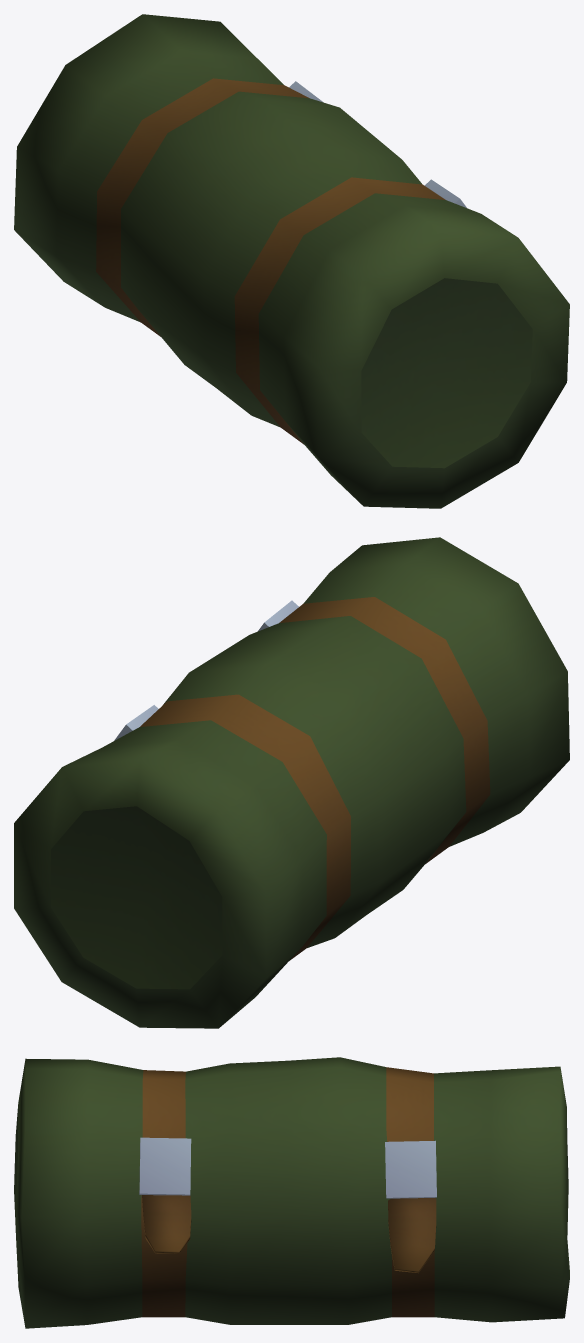
Rendered from mt-carrymat.fbx.
The picture shows the model from 3 angles, top to bottom: view 1: azimuth 30°, elevation 25°; view 2: azimuth 150°, elevation 25°; view 3: azimuth 270°, elevation 25°; orthographic projection. The views are drawn at different scales.
Parts seen in each view (by area): view 1: Cube.063; view 2: Cube.063; view 3: Cube.063.
Part boxes in pixels (left/top/right/bottom): Cube.063: left=14, top=14, right=569, bottom=508; Cube.063: left=14, top=537, right=569, bottom=1028; Cube.063: left=14, top=1057, right=569, bottom=1328.
Bounding box in the file's own units: 132 × 123 × 247.
1 material, 1 textured.
